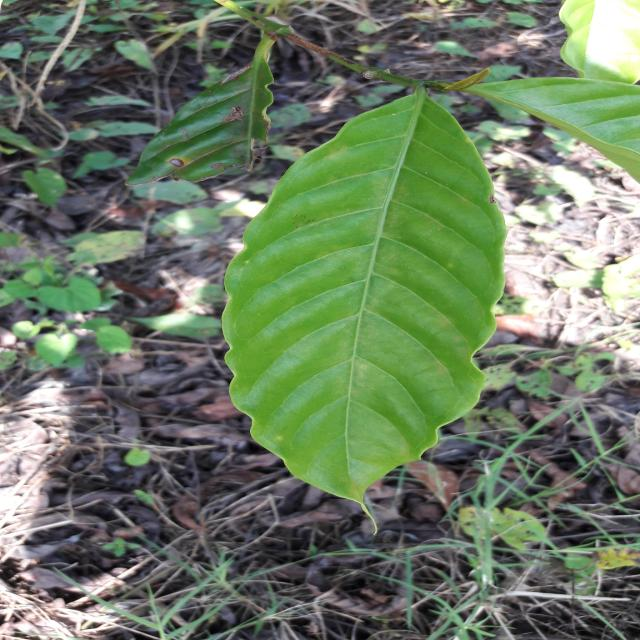Sanas: (220, 90, 507, 506)
